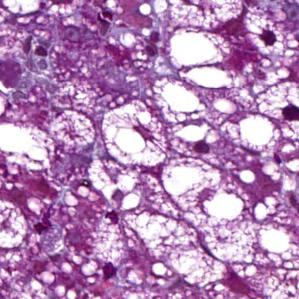ballooning: (98, 97, 172, 171), (237, 7, 295, 67), (252, 79, 296, 150)
